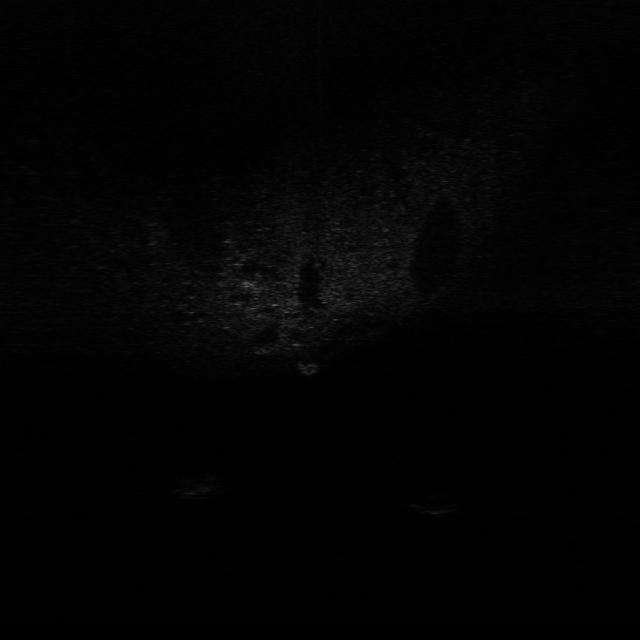ball: (407, 485, 468, 522)
circle cage: (170, 468, 240, 502)
cube: (293, 355, 323, 380)
